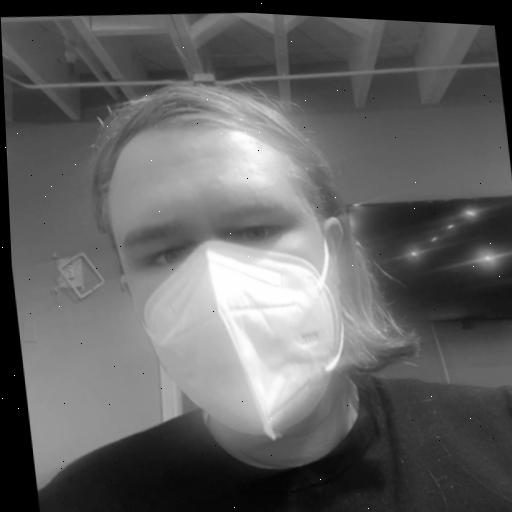mask: (72, 49, 424, 495)
